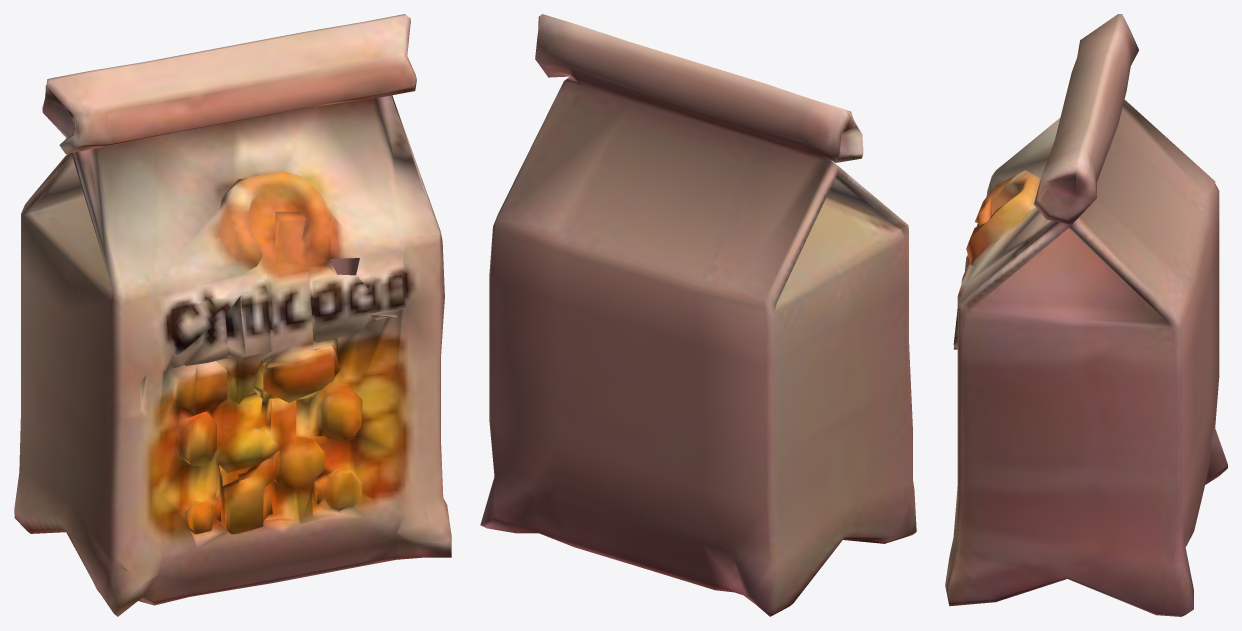
Rendered from oats.glb.
3 views of the same model, side by side, from view 1: azimuth 30°, elevation 25°; view 2: azimuth 150°, elevation 25°; view 3: azimuth 270°, elevation 25° (orthographic). The views are drawn at different scales.
Parts seen in each view (by area): view 1: Oats; view 2: Oats; view 3: Oats.
Boxes of the visible parts, x1=… form: Oats: x1=14, y1=14, x2=451, y2=616; Oats: x1=480, y1=14, x2=916, y2=616; Oats: x1=945, y1=14, x2=1227, y2=616.
Size of the model in its own units: 1.35 by 1.84 by 1.04.
1 material, 1 textured.
